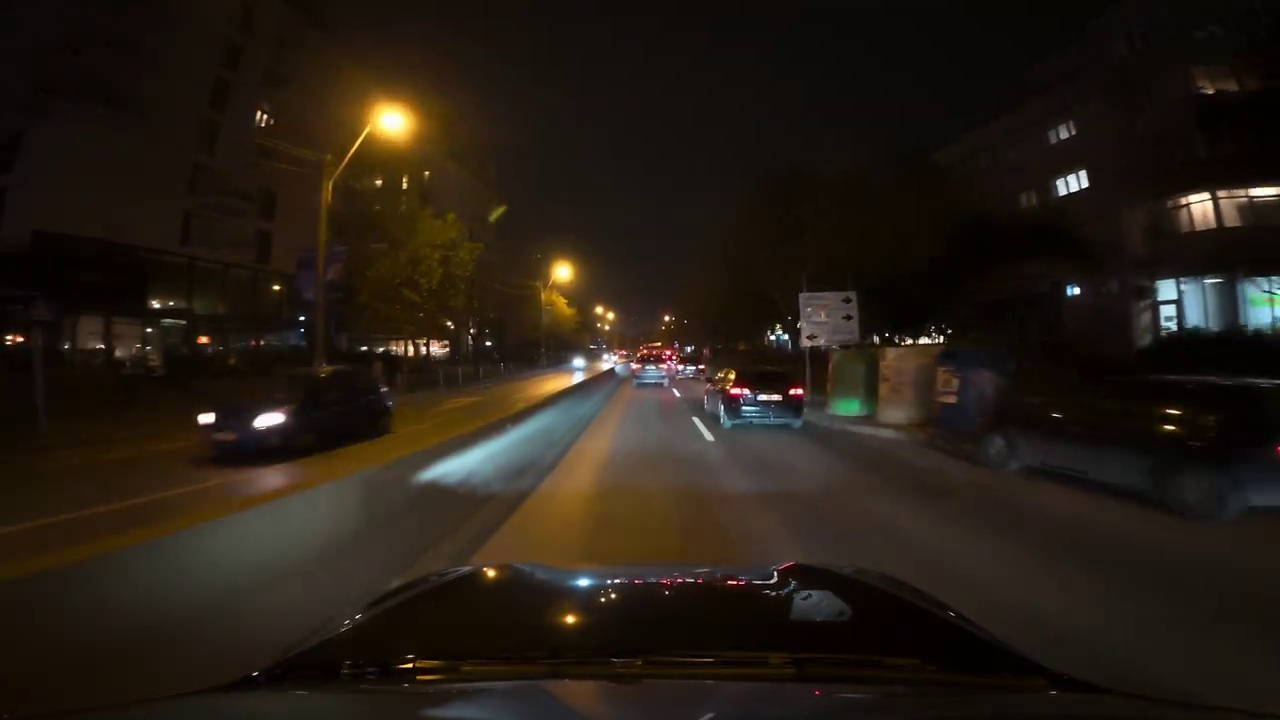acesa: (366, 102, 417, 149), (546, 257, 579, 297), (548, 259, 576, 285)
